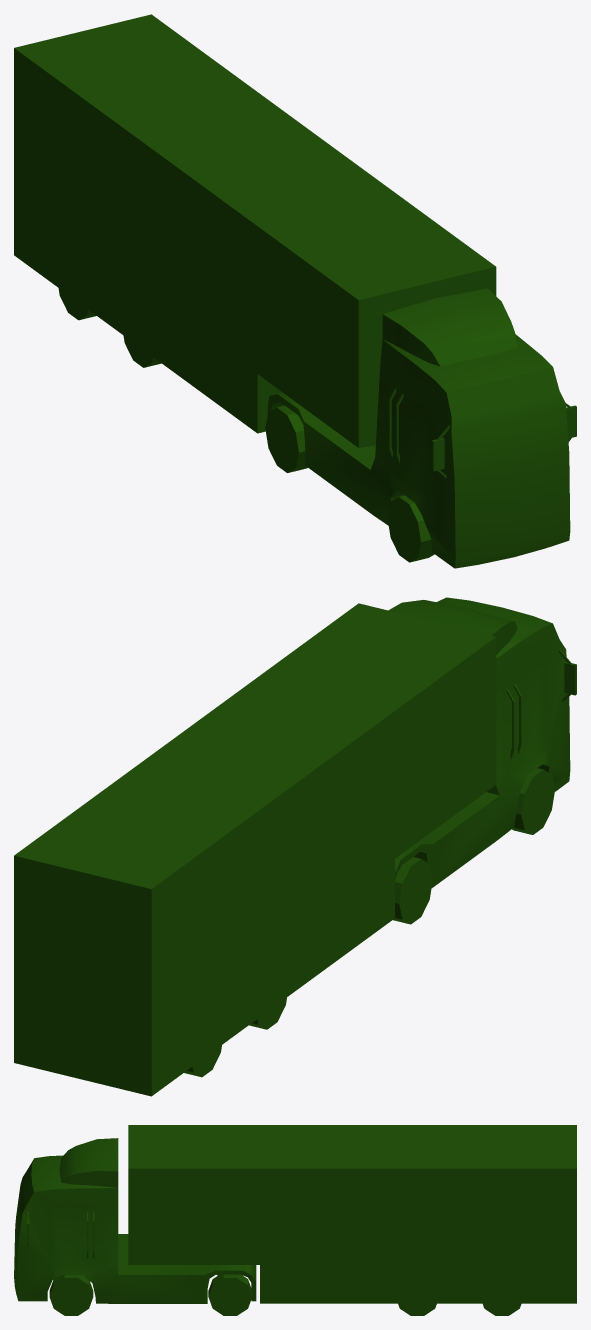
File: Vehicle05B.fbx
The picture shows the model from 3 angles, top to bottom: view 1: azimuth 30°, elevation 25°; view 2: azimuth 150°, elevation 25°; view 3: azimuth 270°, elevation 25°; orthographic projection. The views are drawn at different scales.
Parts seen in each view (by area): view 1: Vehicle05B; view 2: Vehicle05B; view 3: Vehicle05B.
Part boxes in pixels (x1,y1,x2,y2): Vehicle05B: (14,14,576,568); Vehicle05B: (14,597,576,1096); Vehicle05B: (14,1125,576,1315).
Bounding box in the file's own units: 1.81 × 2.73 × 9.43.
